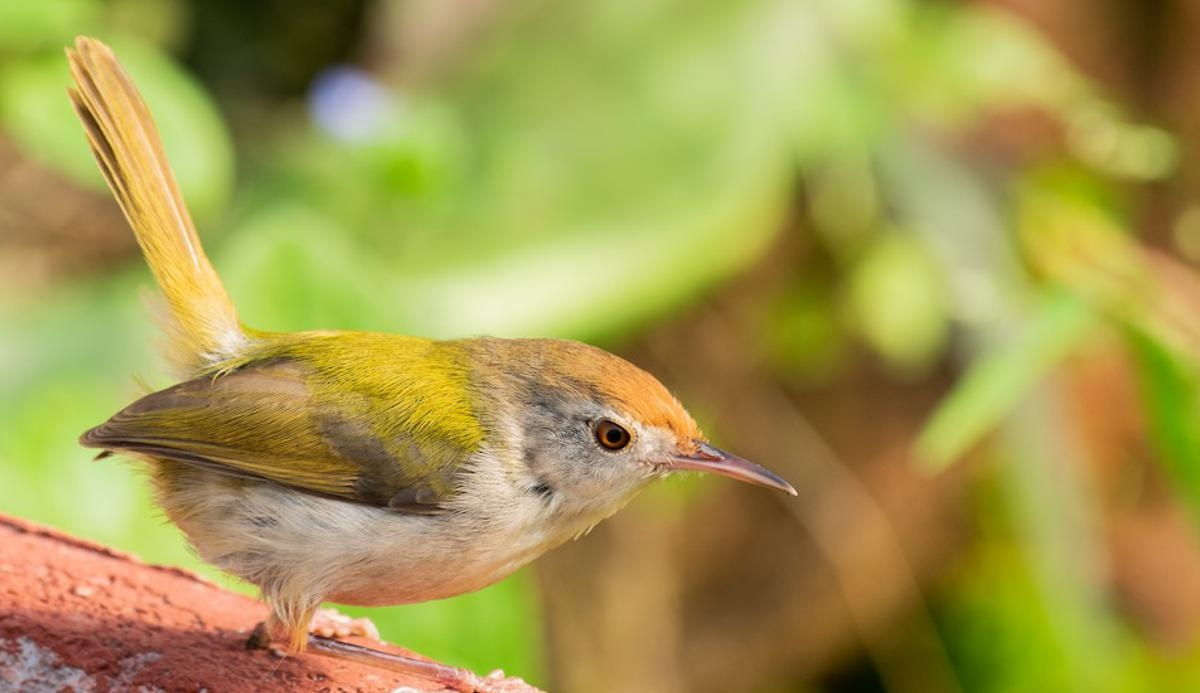tailorbird: (24, 53, 829, 657)
